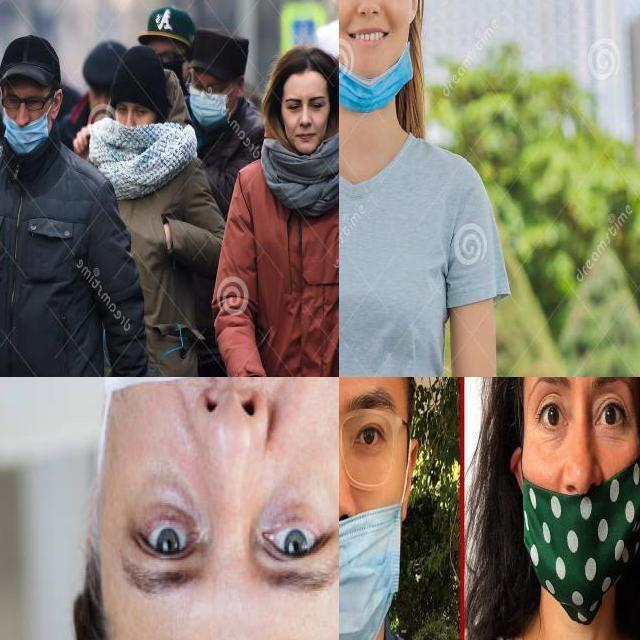hairnet: (519, 431, 640, 626), (339, 472, 407, 633), (341, 18, 415, 110), (5, 106, 52, 153)
